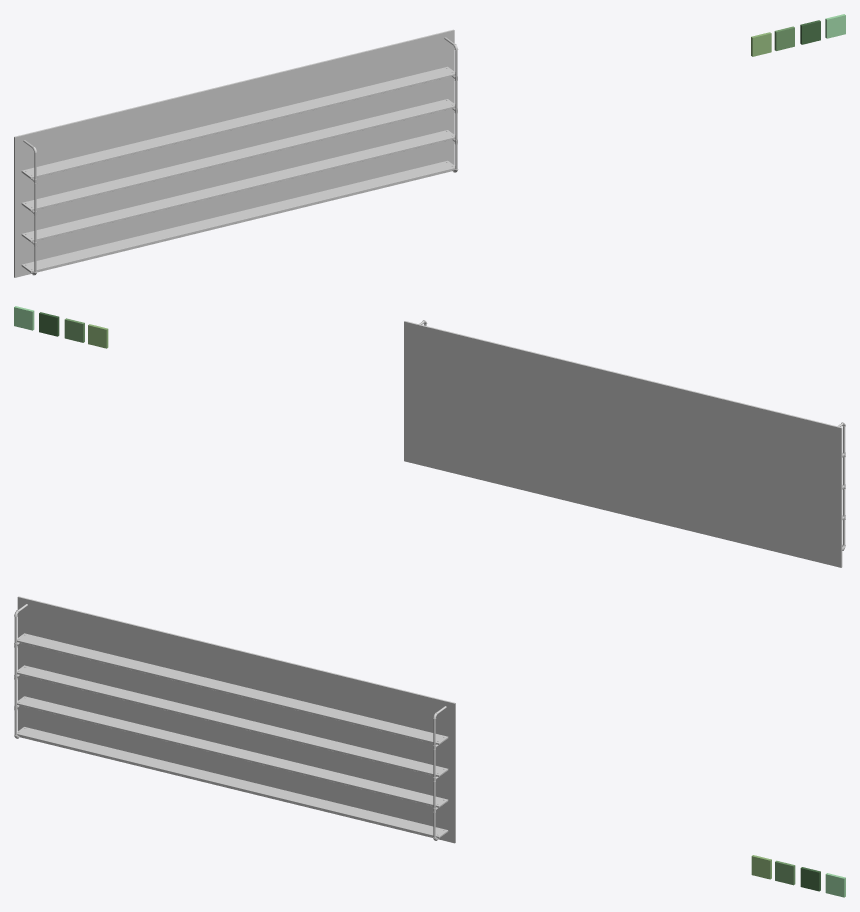
The model's file is wallRack.glb.
3 views of the same model, one above another, from view 1: azimuth 30°, elevation 25°; view 2: azimuth 150°, elevation 25°; view 3: azimuth 330°, elevation 25° (orthographic).
Visible parts, largest first — view 1: Base, Rack; view 2: Base; view 3: Base, Rack.
Part boxes in pixels (x1,y1,x2,y2): Base: [14, 29, 454, 277]; Rack: [21, 37, 458, 275]; Base: [404, 321, 842, 567]; Base: [17, 596, 455, 843]; Rack: [14, 604, 448, 840].
Size of the model in its own units: 8.32 by 1.34 by 0.2384.
